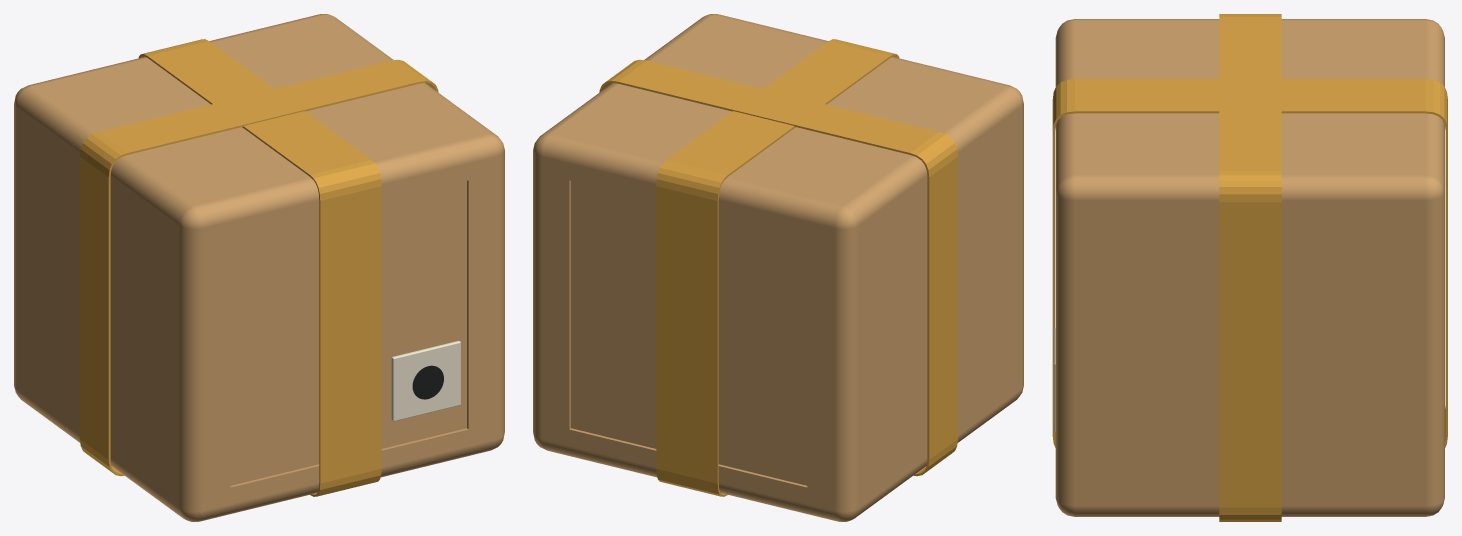
Rendered from play-parcel-small-yellow.glb.
3 renders of one model, left to right at view 1: azimuth 30°, elevation 25°; view 2: azimuth 150°, elevation 25°; view 3: azimuth 270°, elevation 25°, orthographic. The views are drawn at different scales.
Parts seen in each view (by area): view 1: Parcel_Carton, Parcel_Tape_Continuous_Front_Back, Parcel_Tape_Continuous_Left_Right, Parcel_Paper_Label, Parcel_Label_Circle; view 2: Parcel_Carton, Parcel_Tape_Continuous_Front_Back, Parcel_Tape_Continuous_Left_Right; view 3: Parcel_Carton, Parcel_Tape_Continuous_Left_Right, Parcel_Tape_Continuous_Front_Back.
Boxes of the visible parts, x1,y1,x2,y2 form: Parcel_Carton: [14, 14, 504, 521]; Parcel_Tape_Continuous_Front_Back: [138, 39, 381, 496]; Parcel_Tape_Continuous_Left_Right: [80, 59, 438, 476]; Parcel_Paper_Label: [391, 340, 460, 421]; Parcel_Label_Circle: [412, 365, 443, 399]; Parcel_Carton: [533, 14, 1023, 521]; Parcel_Tape_Continuous_Front_Back: [656, 39, 899, 496]; Parcel_Tape_Continuous_Left_Right: [599, 59, 957, 476]; Parcel_Carton: [1055, 19, 1444, 516]; Parcel_Tape_Continuous_Left_Right: [1219, 14, 1281, 521]; Parcel_Tape_Continuous_Front_Back: [1052, 79, 1447, 447].
Size of the model in its own units: 0.148 by 0.138 by 0.1423.
